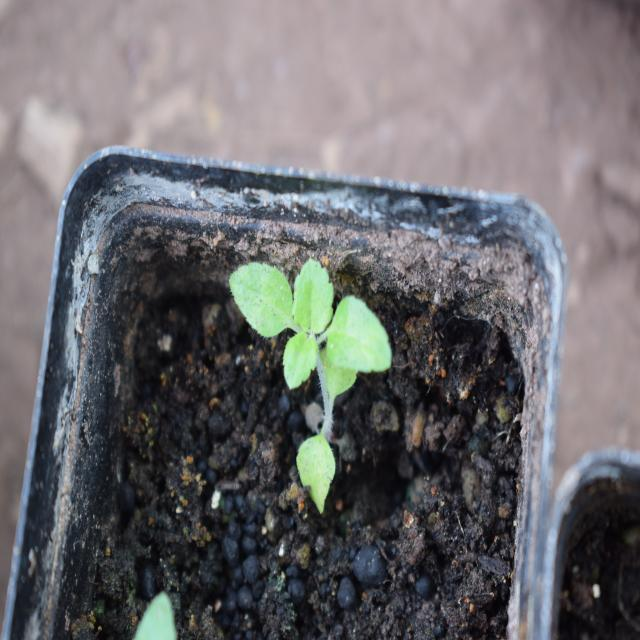billygoat_weed: (221, 251, 399, 484)
